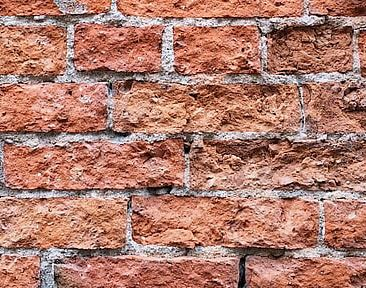brick: (129, 193, 318, 249), (190, 140, 366, 192), (114, 84, 300, 133), (1, 142, 187, 191), (1, 195, 128, 249), (52, 257, 239, 287), (1, 81, 109, 132), (73, 24, 171, 72), (174, 27, 260, 75), (244, 254, 366, 287), (266, 26, 348, 74), (1, 27, 70, 75), (304, 86, 366, 132), (117, 1, 305, 16), (323, 201, 366, 250), (1, 254, 42, 288), (309, 1, 366, 13)
